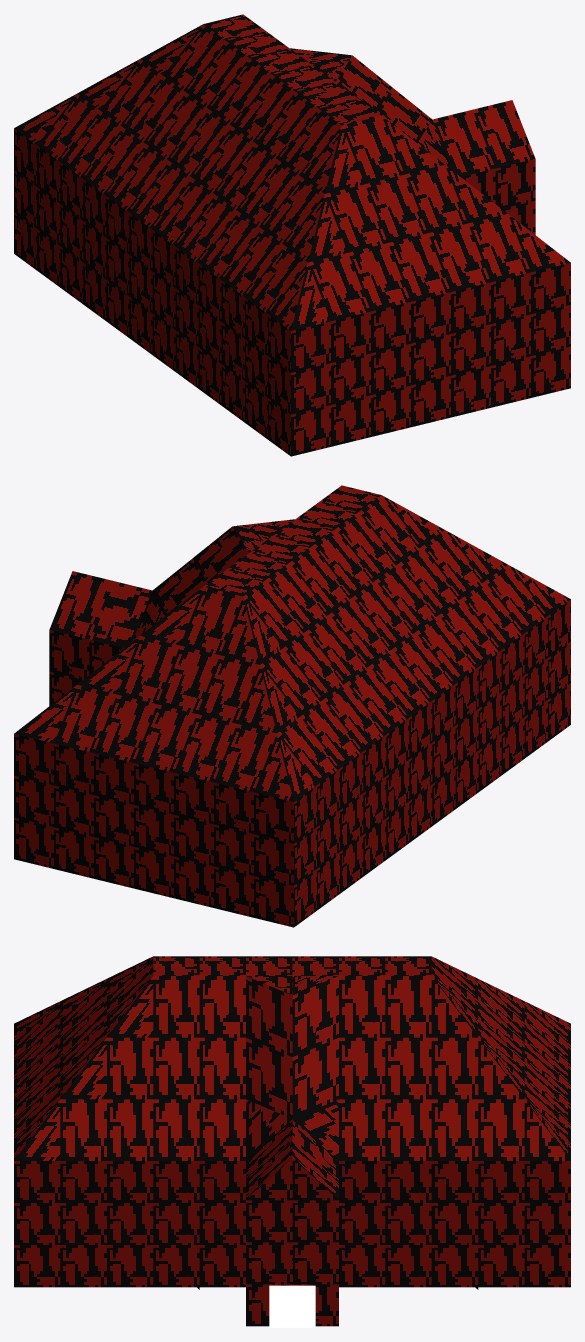
File: cave_fast_travel.glb
3 views of the same model, one above another, from view 1: azimuth 30°, elevation 25°; view 2: azimuth 150°, elevation 25°; view 3: azimuth 270°, elevation 25° (orthographic).
Parts seen in each view (by area): view 1: Plane; view 2: Plane; view 3: Plane.
Part boxes in pixels (left/top/right/bottom): Plane: left=14, top=14, right=570, bottom=456; Plane: left=14, top=485, right=570, bottom=927; Plane: left=14, top=956, right=570, bottom=1327.
Bounding box in the file's own units: 14.5 × 11.2 × 19.2.
4 materials, 2 textured.
